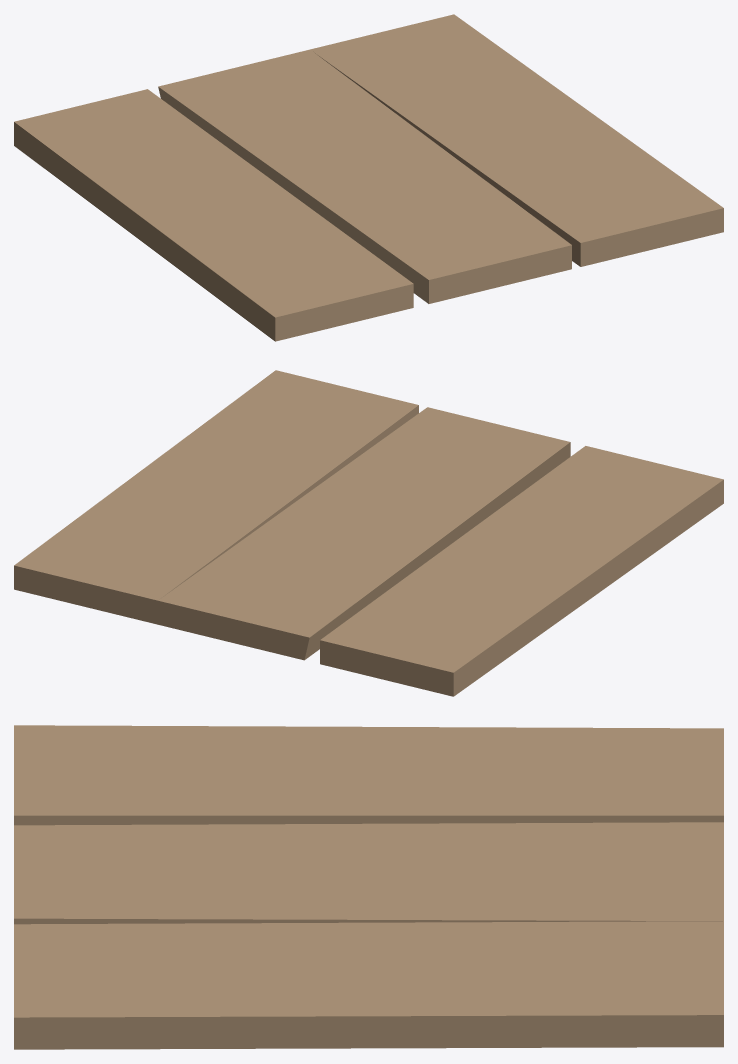
Rendered from Gallows_Hatch_1.fbx.
3 renders of one model, top to bottom at view 1: azimuth 30°, elevation 25°; view 2: azimuth 150°, elevation 25°; view 3: azimuth 270°, elevation 25°, orthographic. The views are drawn at different scales.
Visible parts, largest first — view 1: Gallows_Hatch_1; view 2: Gallows_Hatch_1; view 3: Gallows_Hatch_1.
Boxes of the visible parts, left/top/right/bottom form: Gallows_Hatch_1: left=14, top=14, right=723, bottom=341; Gallows_Hatch_1: left=14, top=370, right=723, bottom=696; Gallows_Hatch_1: left=14, top=725, right=723, bottom=1049.
Size of the model in its own units: 88.01 by 4.51 by 90.36.
1 material, 1 textured.
